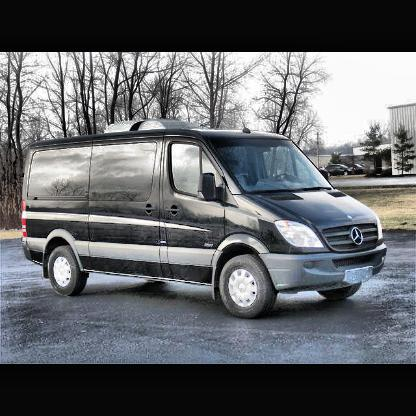Mercedes-Benz Sprinter Van 2012: (23, 123, 387, 319)
